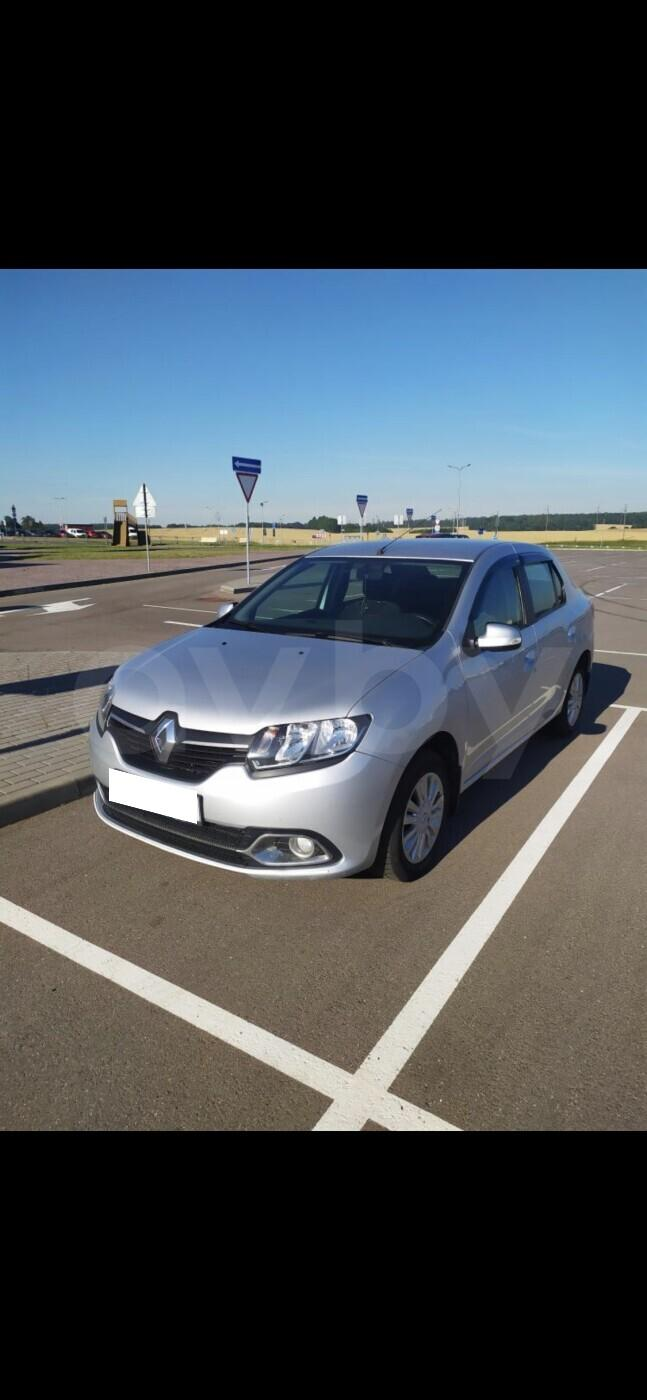Logan_2013-2018: (94, 532, 604, 884)
